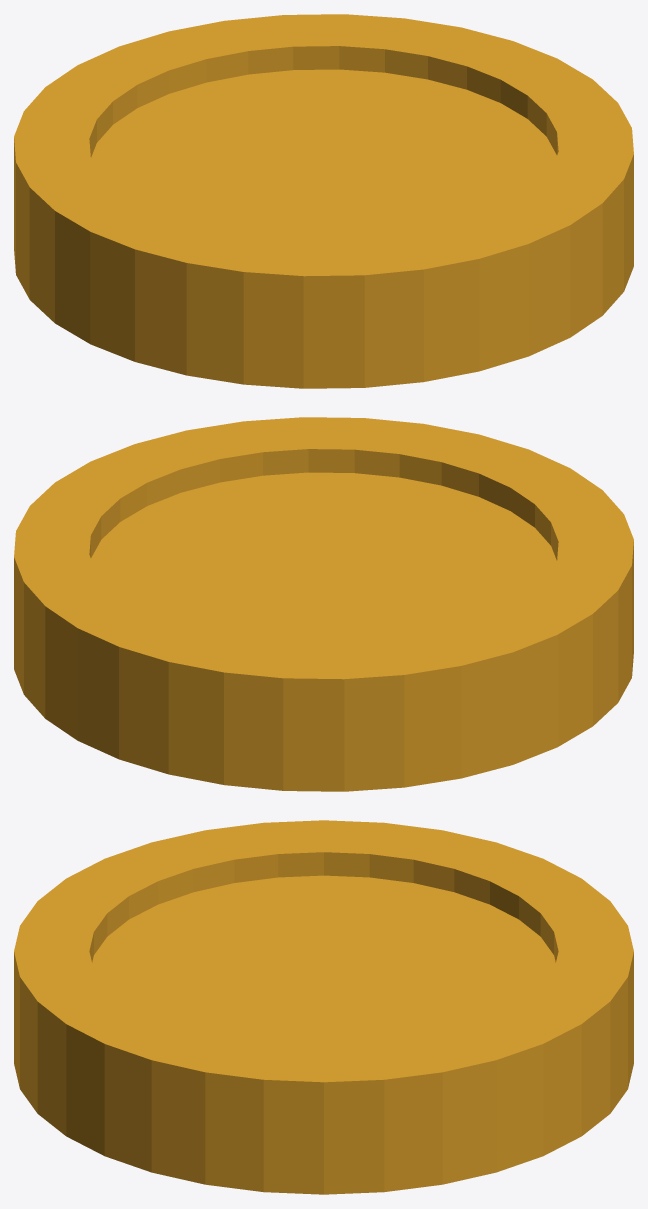
The model's file is Money.fbx.
3 views of the same model, one above another, from view 1: azimuth 30°, elevation 25°; view 2: azimuth 150°, elevation 25°; view 3: azimuth 270°, elevation 25° (orthographic).
Parts seen in each view (by area): view 1: Cylinder; view 2: Cylinder; view 3: Cylinder.
Part boxes in pixels (x1,y1,x2,y2): Cylinder: (14,14,633,388); Cylinder: (14,417,633,791); Cylinder: (14,820,633,1194).
Bounding box in the file's own units: 89.45 × 17.89 × 89.45.
